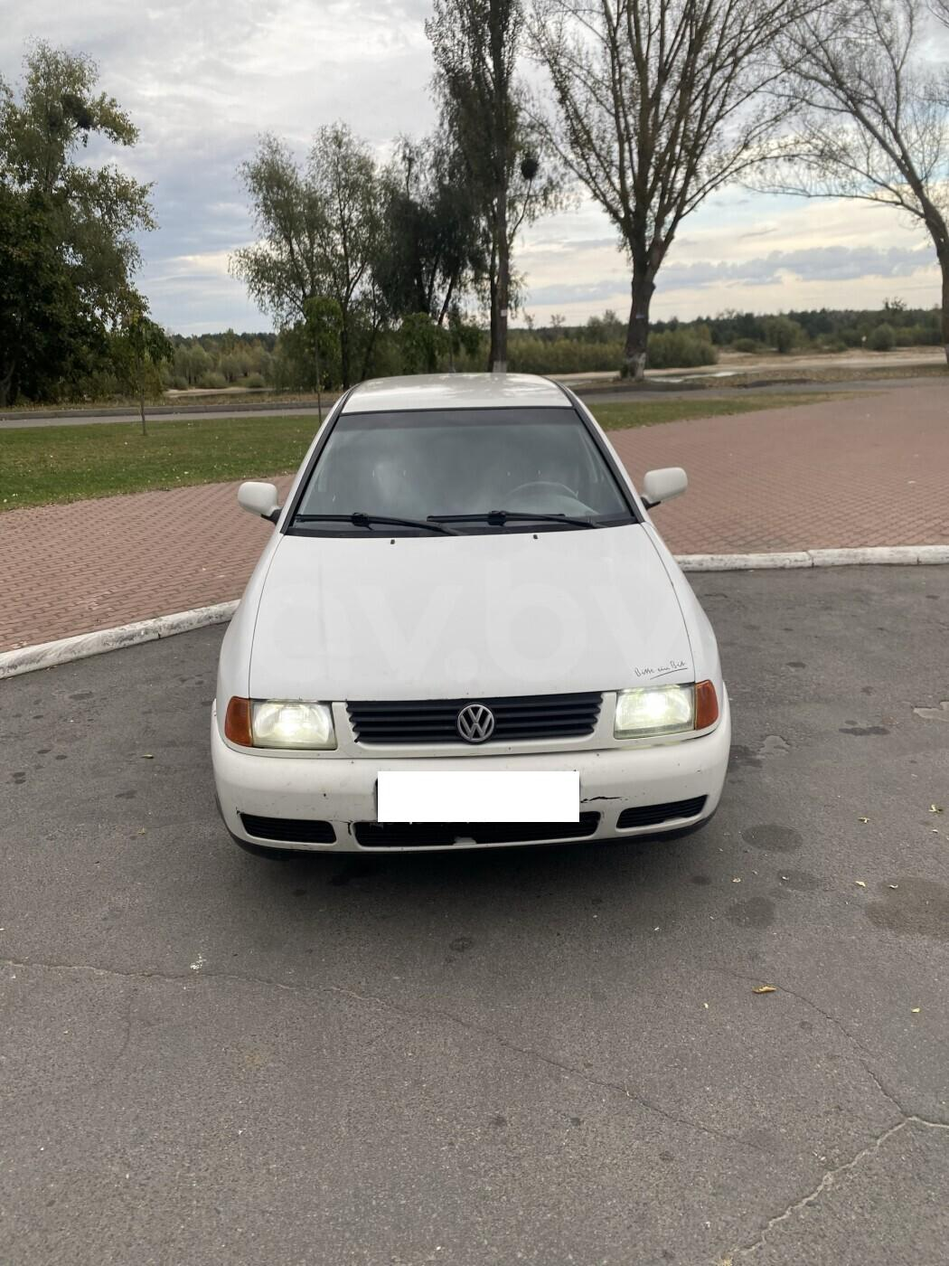Polo_1994-2002: (191, 368, 741, 911)
